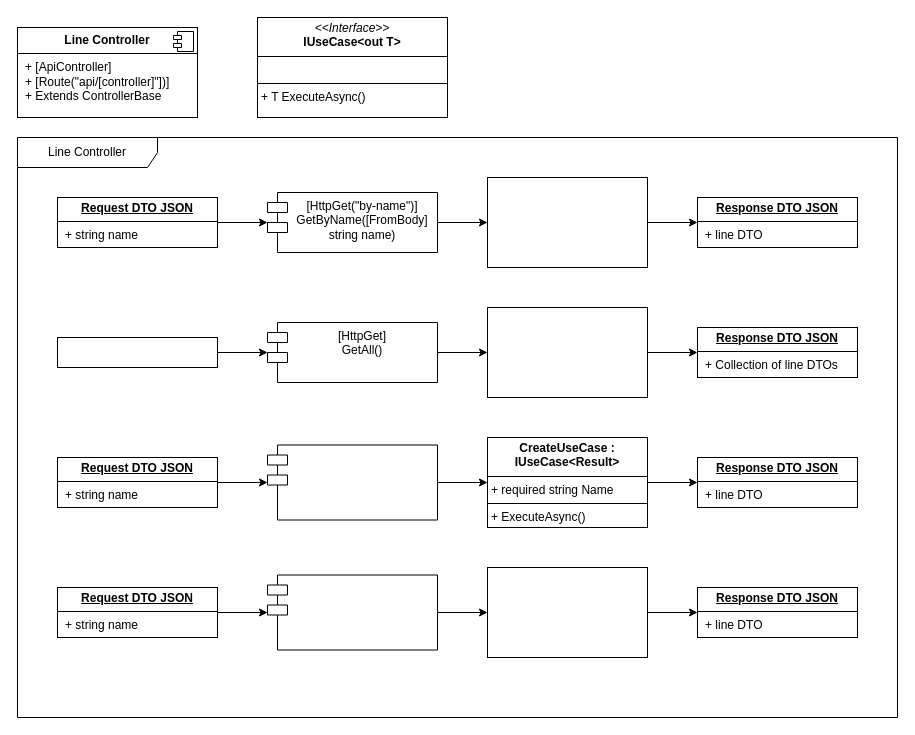
The diagram is 915 pixels wide and 735 high, and some of its shapes have lost their labels. The centre of each missing label's shape, as x and y in pixels:
"[HttpDelete] [Authorize] Delete([FromBody] string name)" belongs at point (352, 612).
"[HttpPost] [Authorize] Create([FromBody] string name)" belongs at point (352, 482).
"DeleteUseCase : IUseCase<Result> + required string Name + ExecuteAsync()" belongs at point (567, 612).
"GetAllUseCase : IUseCase<Result> + ExecuteAsync()" belongs at point (567, 352).
"GetByNameUseCase : IUseCase<Result> + required string Name + ExecuteAsync()" belongs at point (567, 222).
"Request" belongs at point (137, 352).
